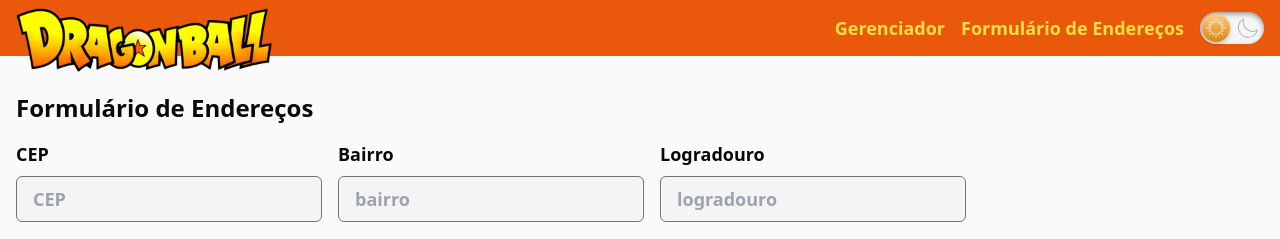
address form page e2e test › should request cep address and fill form fields
In the field with id "cep": (169, 199) [16, 176, 322, 222], type "01001000"
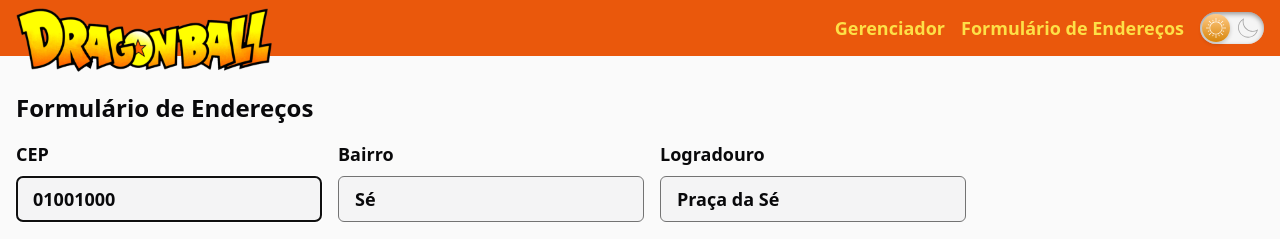
expect the field with id "bairro" holds "Sé": met, box [338, 176, 644, 222]
expect the field with id "logradouro" holds "Praça da Sé": met, box [660, 176, 966, 222]
